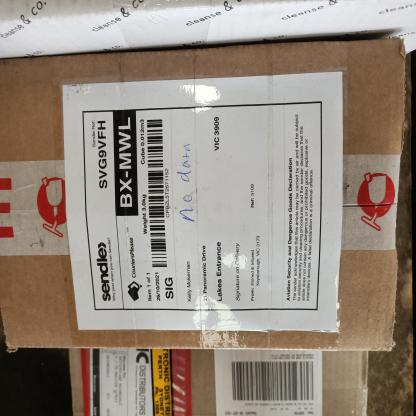label: (55, 79, 352, 336), (204, 346, 324, 414)
package: (0, 32, 408, 367), (50, 336, 392, 414)
